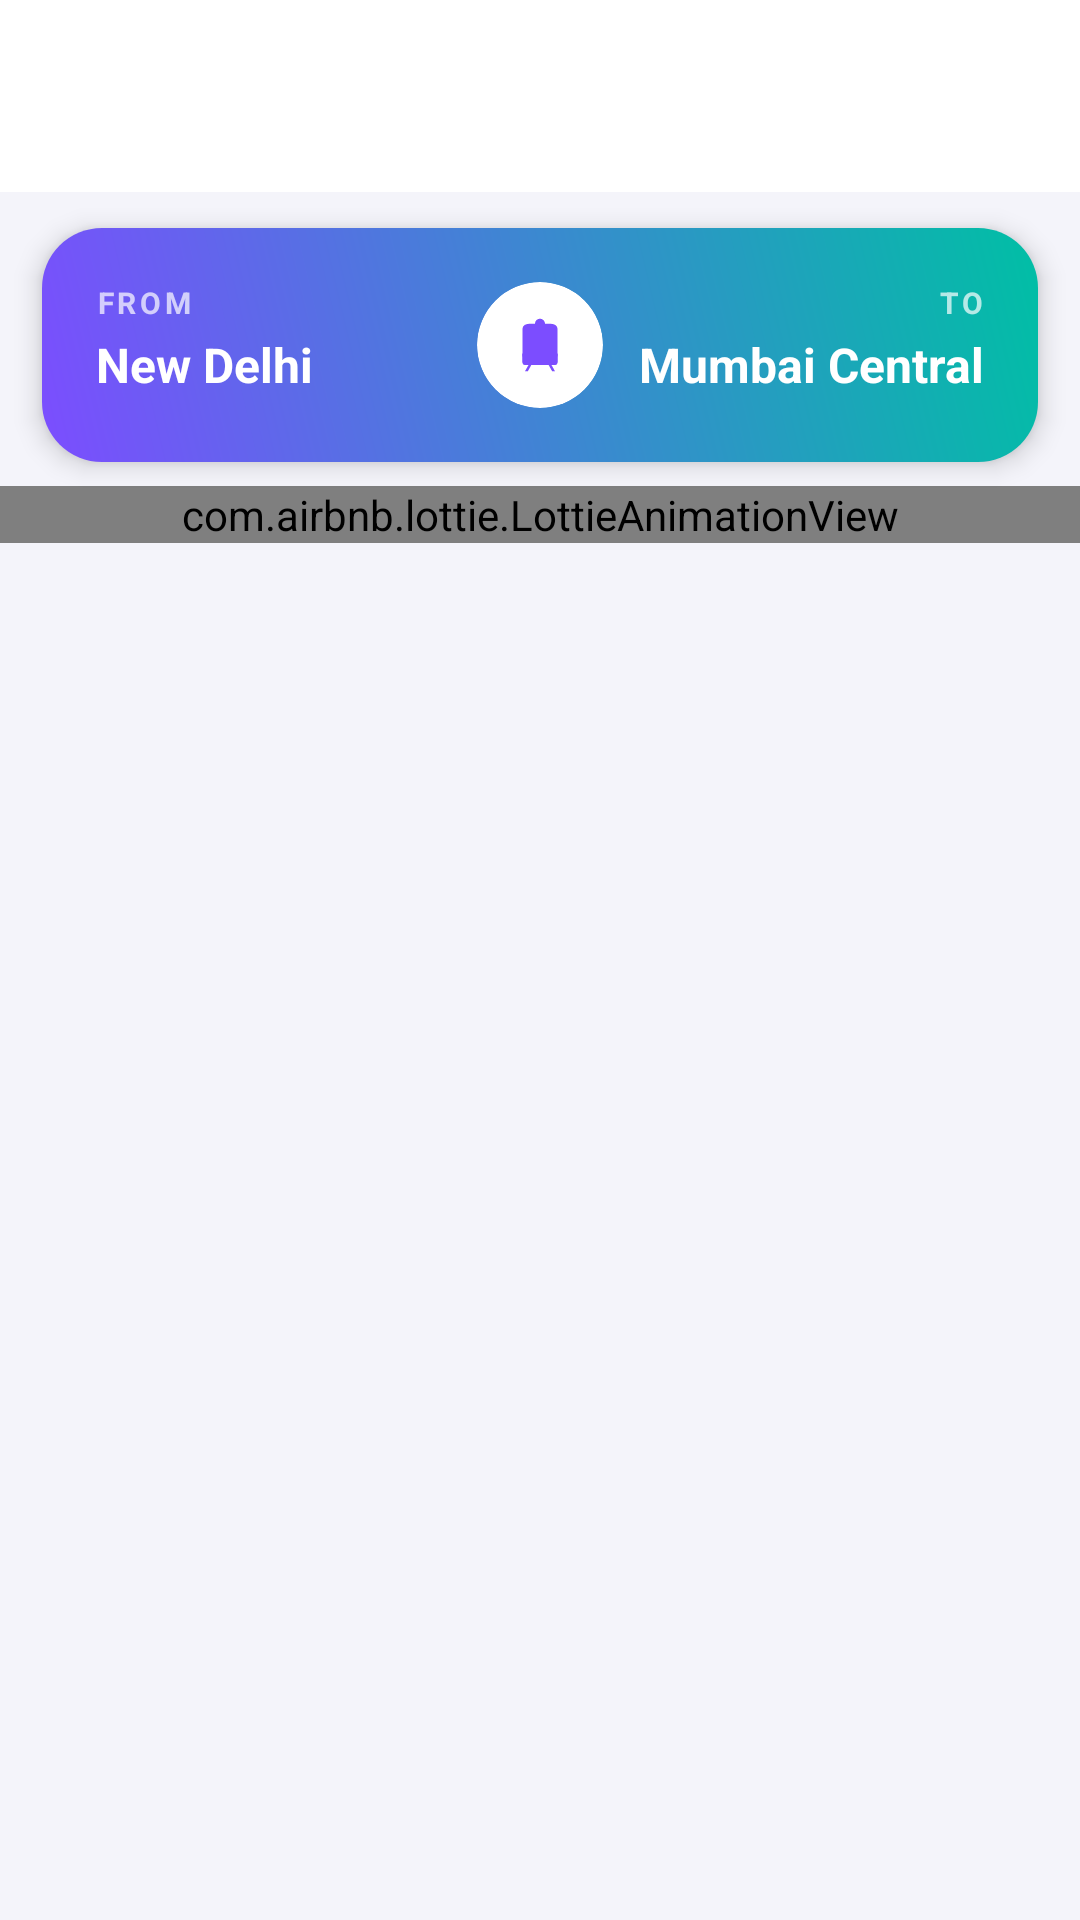

Where to tap for icons on this 1080x1920 app screen, as point (x, y):
home screen train: point (540, 345)
